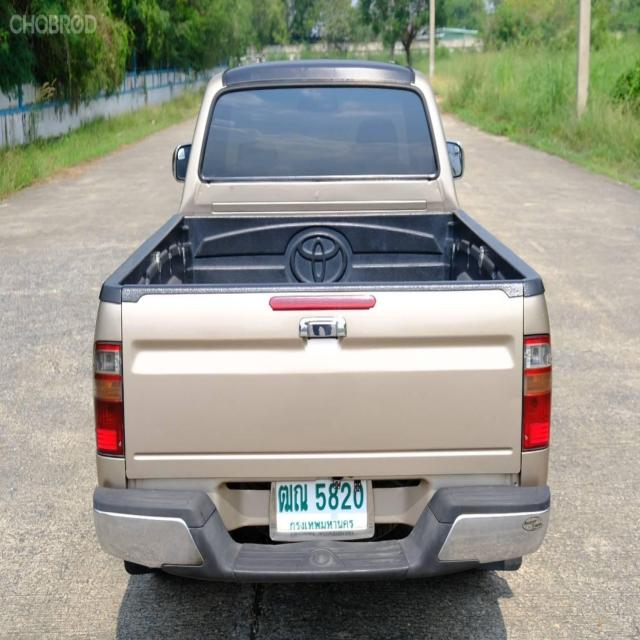license_plate: (262, 468, 380, 552)
